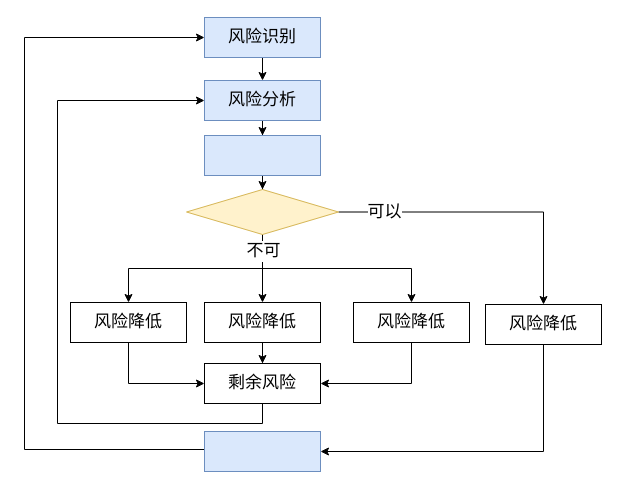
The diagram is 619 pixels wide and 489 high, and some of its shapes have lost their labels. The shapes that lost their labels are listed below. From the top down, each one's box as (x1, y1, x2, y2) in pixels, then its label:
(204, 134, 320, 176): 风险评价
(186, 188, 338, 234): 可否接受
(204, 430, 320, 472): 风险监控
